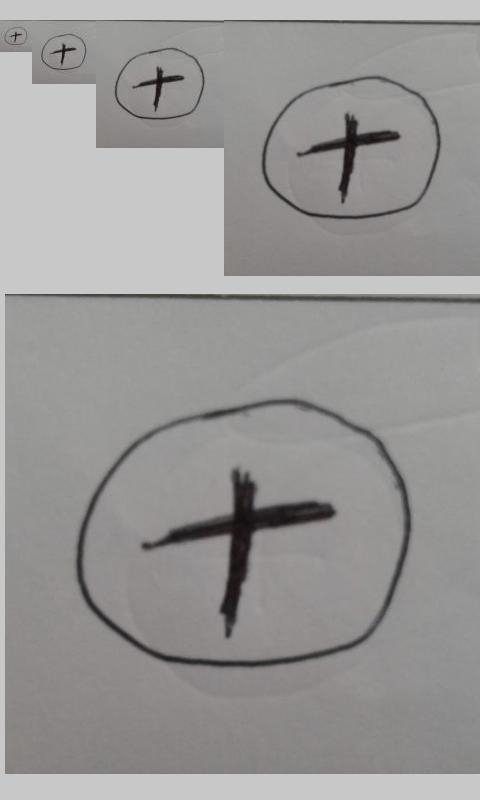button: (74, 398, 415, 669), (260, 74, 442, 220), (114, 47, 205, 120), (40, 33, 88, 71), (4, 26, 28, 46)
